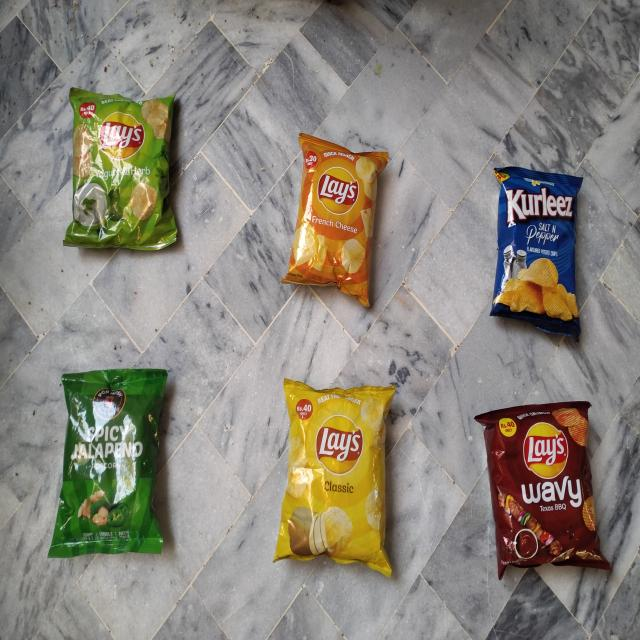Plastic: (276, 373, 404, 580), (53, 365, 181, 556), (478, 403, 612, 581), (66, 80, 185, 256), (284, 128, 391, 316), (493, 160, 590, 347)
